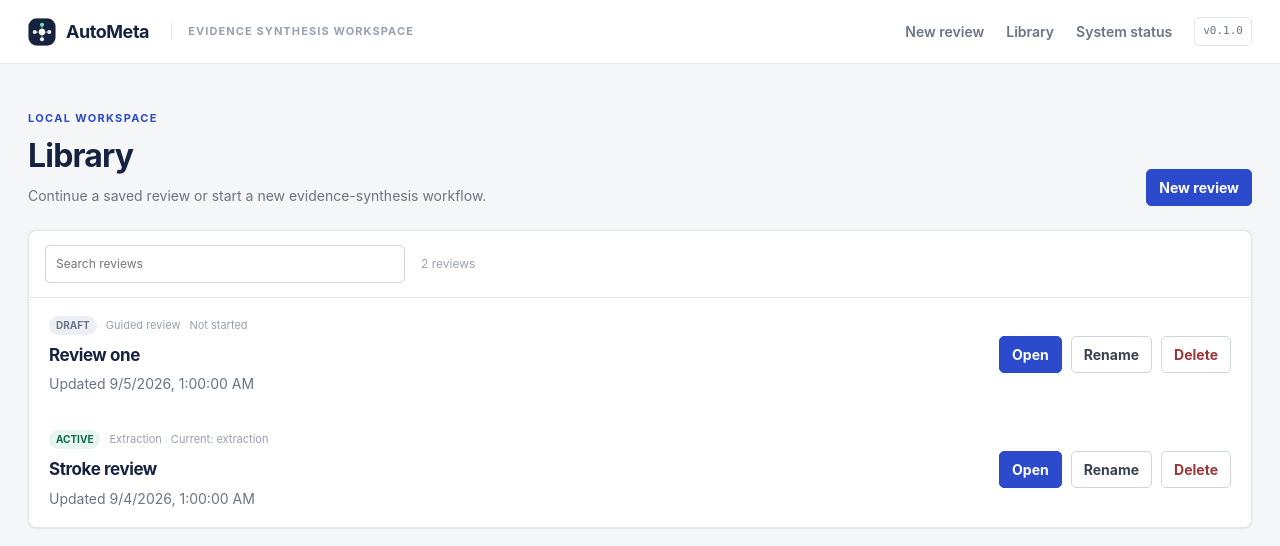
Test: LibraryPage › lists, searches, and links to persisted reviews
The width and height of the screenshot is (1280, 546).
Expected: the heading "Review one" is shown, top-left (49, 344), bottom-right (140, 364)
Expected: the heading "Stroke review" is shown, top-left (49, 459), bottom-right (157, 479)
Type "stroke" into the search field labelled "Search reviews".
click(225, 264); type("stroke")  # box top-left (45, 244), bottom-right (405, 282)
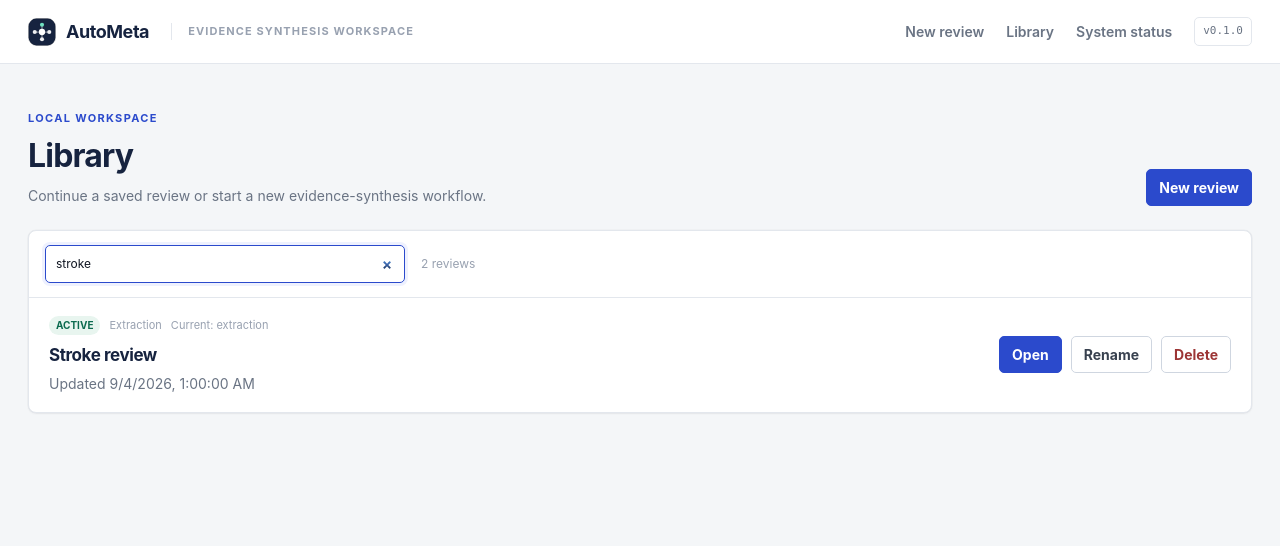
Expected: the heading "Stroke review" is shown, top-left (49, 344), bottom-right (157, 364)
Expected: the heading "Review one" is gone
